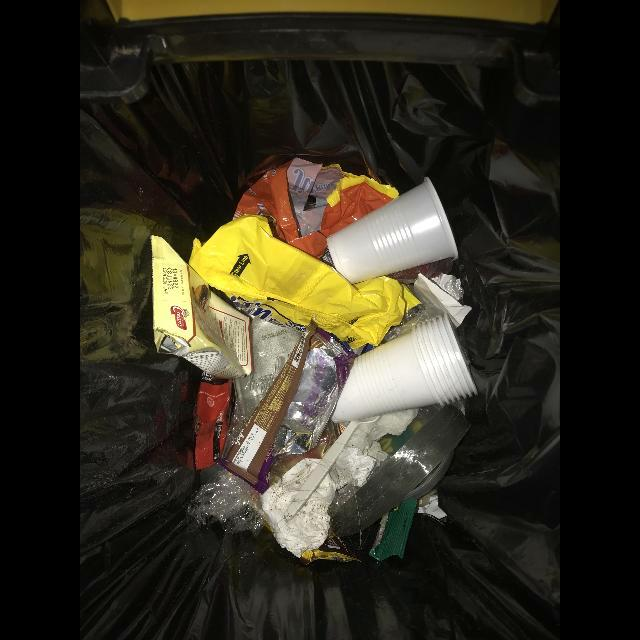food_wrapper: (190, 215, 420, 357), (220, 319, 357, 494), (233, 158, 399, 258), (195, 373, 232, 470), (369, 498, 419, 561)
paper: (413, 273, 472, 328)
plastic_container: (332, 315, 478, 424), (326, 177, 459, 285)
